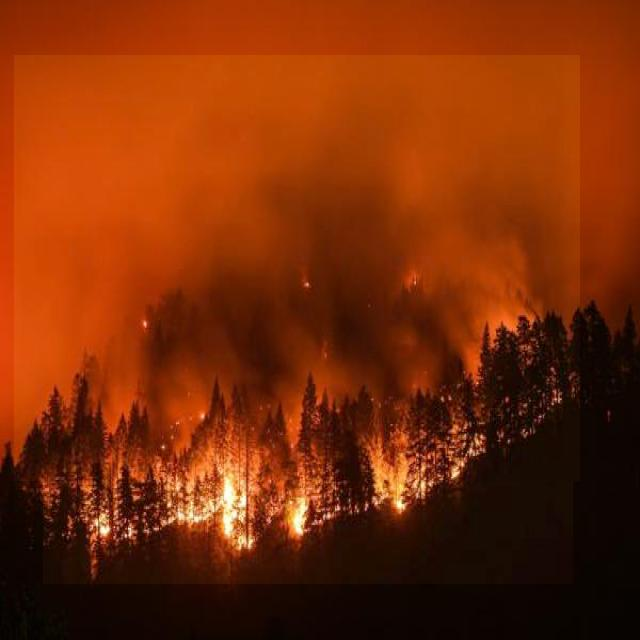Fire: (43, 388, 573, 584)
Smoke: (14, 55, 580, 481)
